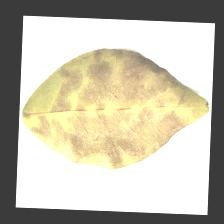black spot: (41, 62, 173, 146)
